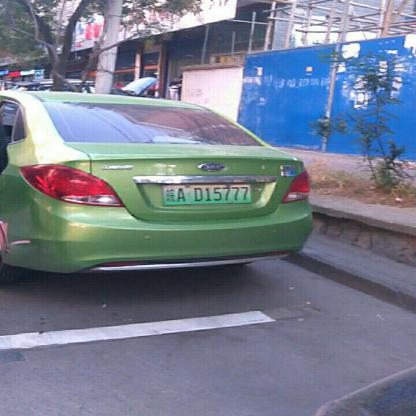lp: (162, 184, 251, 204)
